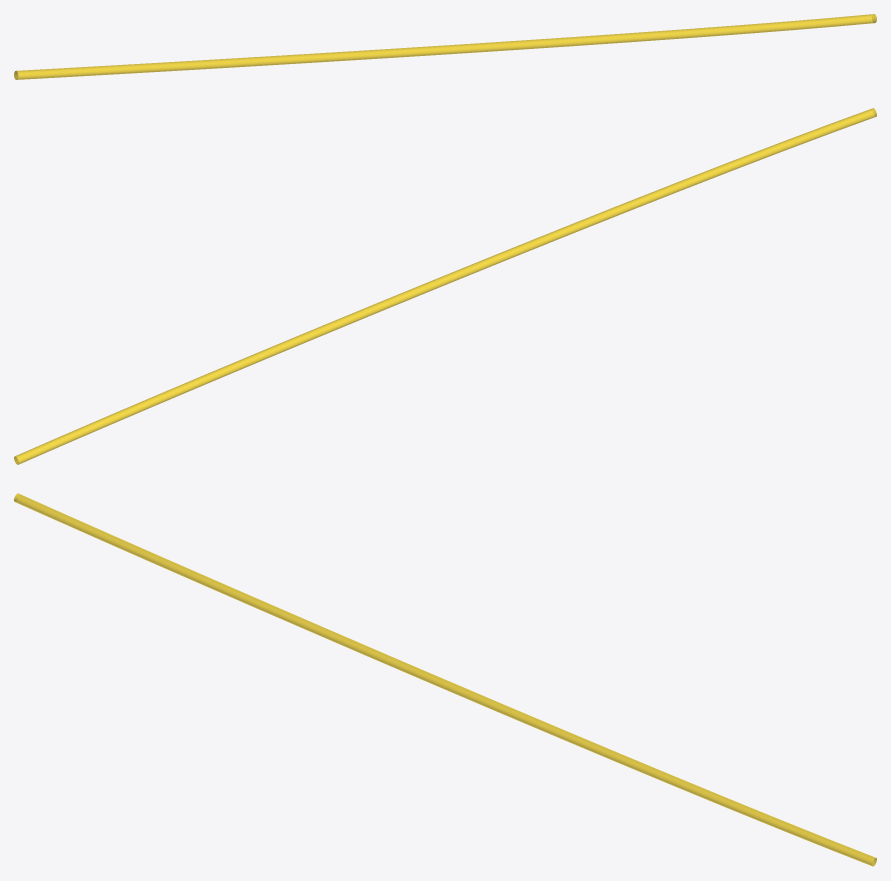
File: Event_75125125_track_62.fbx
3 renders of one model, top to bottom at view 1: azimuth 30°, elevation 25°; view 2: azimuth 210°, elevation 25°; view 3: azimuth 330°, elevation 25°, orthographic.
Parts seen in each view (by area): view 1: Model; view 2: Model; view 3: Model.
Boxes of the visible parts, <box> form: Model: <box>14,14,876,79</box>; Model: <box>14,108,876,464</box>; Model: <box>14,493,876,866</box>.
Size of the model in its own units: 4.28 by 0.7391 by 0.1205.
